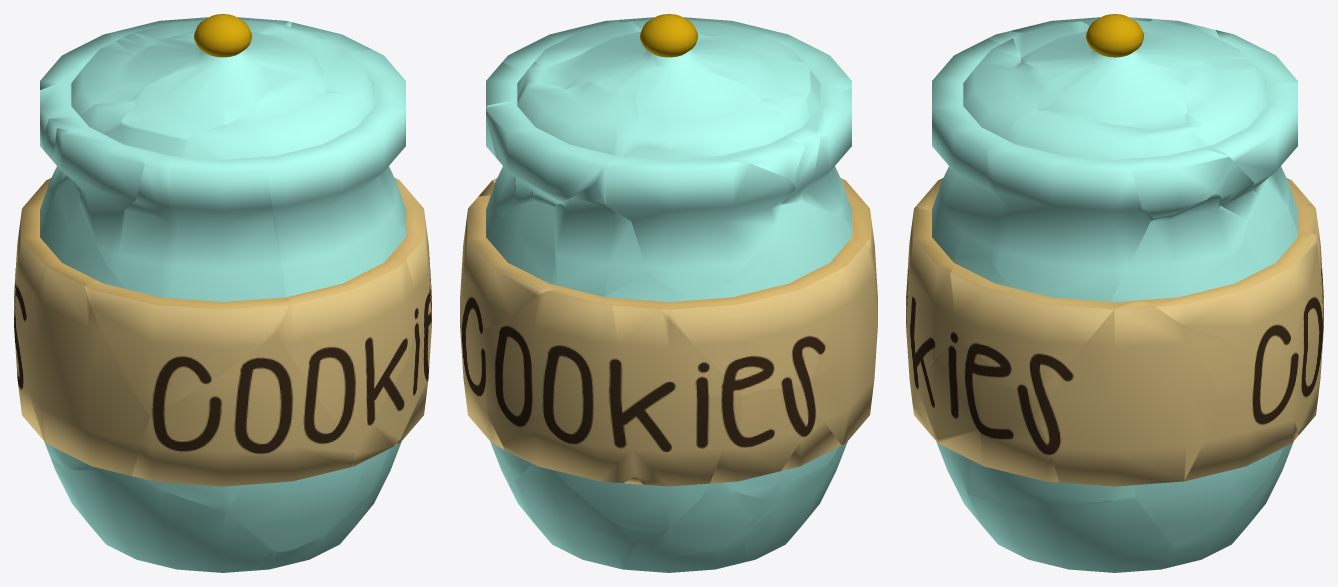
File: Cookie Jar Broken.FBX
The picture shows the model from 3 angles, left to right: view 1: azimuth 30°, elevation 25°; view 2: azimuth 150°, elevation 25°; view 3: azimuth 270°, elevation 25°; orthographic projection.
Parts seen in each view (by area): view 1: CookieJarGlass_Part_20, CookieJar_Part_25, CookieJar_Part_18, CookieJarGlass_Part_7, CookieJar_Part_9, CookieJar_Part_19, CookieJarGlass_Part_34, CookieJarGlass_Part_11, CookieJarGlass_Part_44, CookieJarGlass_Part_29, CookieJarGlass_Part_17, CookieJarGlass_Part_6 (+16 smaller); view 2: CookieJar_Part_12, CookieJarGlass_Part_50, CookieJar_Part_10, CookieJar_Part_1, CookieJarGlass_Part_13, CookieJarGlass_Part_6, CookieJar_Part_18, CookieJarGlass_Part_43, CookieJar_Part_13, CookieJar_Part_21, CookieJarGlass_Part_46, CookieJarGlass_Part_9 (+31 smaller); view 3: CookieJarGlass_Part_38, CookieJar_Part_2, CookieJarGlass_Part_20, CookieJar_Part_27, CookieJarGlass_Part_32, CookieJarGlass_Part_13, CookieJar_Part_21, CookieJarGlass_Part_8, CookieJarGlass_Part_37, CookieJar_Part_4, CookieJar_Part_9, CookieJarGlass_Part_23 (+23 smaller).
Part boxes in pixels (<box>): CookieJarGlass_Part_20: <box>254,79,401,297</box>; CookieJar_Part_25: <box>132,333,355,486</box>; CookieJar_Part_18: <box>17,260,149,475</box>; CookieJarGlass_Part_7: <box>170,110,285,301</box>; CookieJar_Part_9: <box>276,259,418,451</box>; CookieJar_Part_19: <box>84,280,289,417</box>; CookieJarGlass_Part_34: <box>52,460,272,572</box>; CookieJarGlass_Part_11: <box>121,51,280,140</box>; CookieJarGlass_Part_44: <box>53,125,144,274</box>; CookieJarGlass_Part_29: <box>115,133,185,298</box>; CookieJarGlass_Part_17: <box>228,461,364,552</box>; CookieJarGlass_Part_6: <box>40,41,205,137</box>; CookieJar_Part_12: <box>495,288,635,483</box>; CookieJarGlass_Part_50: <box>596,147,795,299</box>; CookieJar_Part_10: <box>609,297,741,486</box>; CookieJar_Part_1: <box>661,265,843,391</box>; CookieJarGlass_Part_13: <box>486,81,619,206</box>; CookieJarGlass_Part_6: <box>644,54,805,180</box>; CookieJar_Part_18: <box>810,241,877,445</box>; CookieJarGlass_Part_43: <box>553,183,647,296</box>; CookieJar_Part_13: <box>710,383,813,483</box>; CookieJar_Part_21: <box>462,195,565,328</box>; CookieJarGlass_Part_46: <box>554,470,709,535</box>; CookieJarGlass_Part_9: <box>762,202,851,289</box>; CookieJarGlass_Part_38: <box>987,110,1154,301</box>; CookieJar_Part_2: <box>1047,300,1221,486</box>; CookieJarGlass_Part_20: <box>932,63,1052,259</box>; CookieJar_Part_27: <box>950,264,1130,387</box>; CookieJarGlass_Part_32: <box>960,493,1174,572</box>; CookieJarGlass_Part_13: <box>1185,69,1297,195</box>; CookieJar_Part_21: <box>1140,229,1316,348</box>; CookieJarGlass_Part_8: <box>1110,193,1246,301</box>; CookieJarGlass_Part_37: <box>1036,53,1186,131</box>; CookieJar_Part_4: <box>912,337,1033,439</box>; CookieJar_Part_9: <box>906,207,958,400</box>; CookieJarGlass_Part_23: <box>1134,448,1282,545</box>.
Size of the model in its own units: 27.38 by 35.62 by 26.97.
